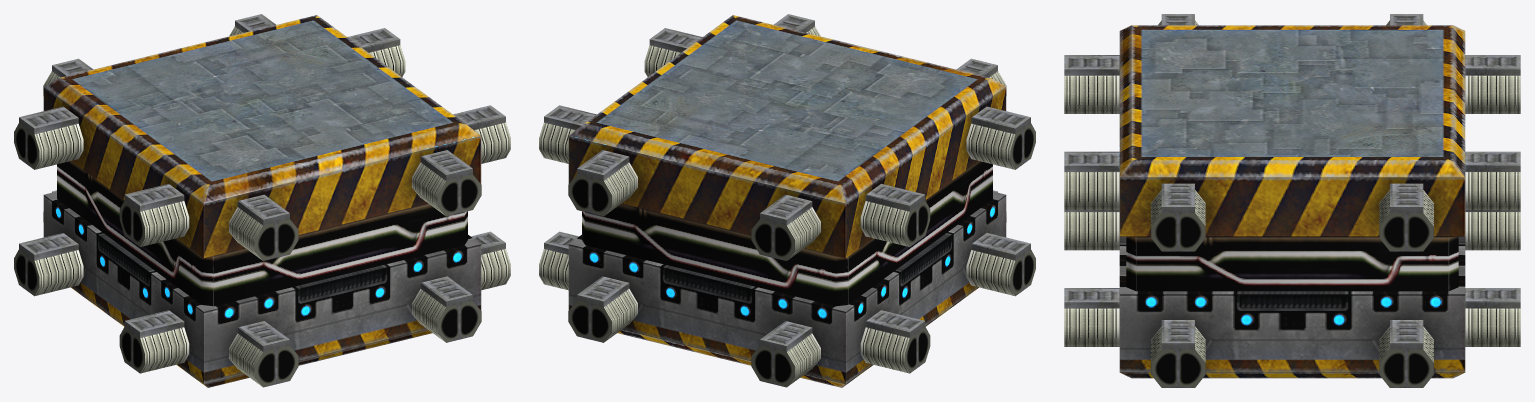
Rendered from Module_Base.dae.
The picture shows the model from 3 angles, left to right: view 1: azimuth 30°, elevation 25°; view 2: azimuth 150°, elevation 25°; view 3: azimuth 270°, elevation 25°; orthographic projection. The views are drawn at different scales.
Visible parts, largest first — view 1: Module_Base; view 2: Module_Base; view 3: Module_Base.
Boxes of the visible parts, x1,y1,x2,y2 form: Module_Base: (14, 14, 510, 387); Module_Base: (539, 14, 1035, 387); Module_Base: (1064, 14, 1520, 387).
Size of the model in its own units: 2 by 1.05 by 2.
